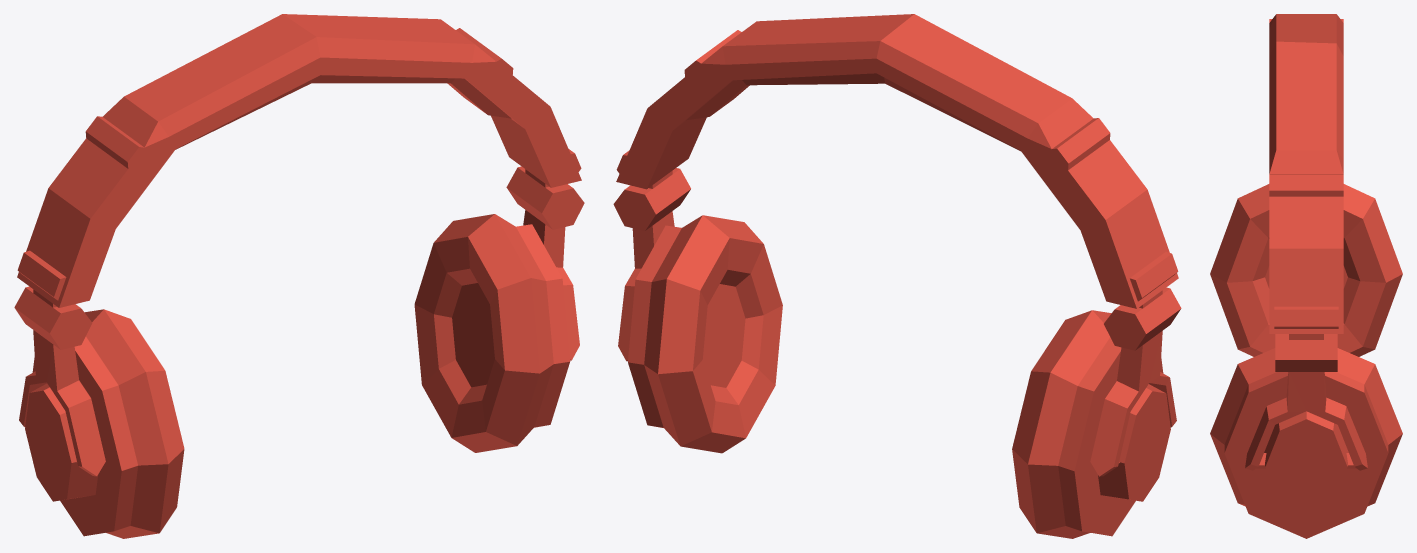
Rendered from SM_Headphones_Head_Movie.fbx.
3 renders of one model, left to right at view 1: azimuth 30°, elevation 25°; view 2: azimuth 150°, elevation 25°; view 3: azimuth 270°, elevation 25°, orthographic. The views are drawn at different scales.
Parts seen in each view (by area): view 1: SM_Headphones_Head_Movie; view 2: SM_Headphones_Head_Movie; view 3: SM_Headphones_Head_Movie.
Part boxes in pixels (x1,y1,x2,y2): SM_Headphones_Head_Movie: (14, 14, 584, 538); SM_Headphones_Head_Movie: (613, 14, 1181, 538); SM_Headphones_Head_Movie: (1210, 14, 1402, 538).
Bounding box in the file's own units: 9.17 × 25.86 × 21.79.
